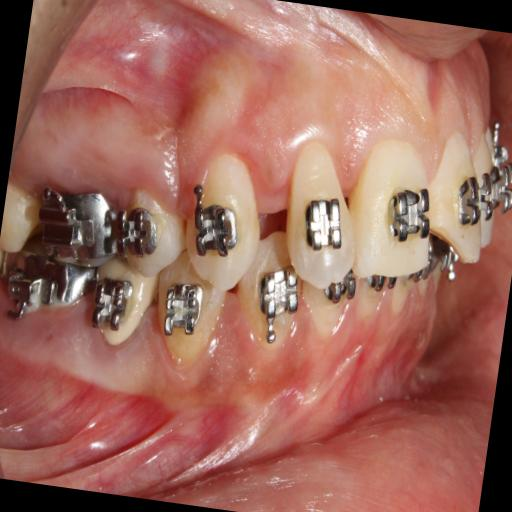correct_brace: (110, 180, 186, 281), (378, 171, 436, 248), (188, 192, 242, 260), (300, 185, 348, 257)
incorrect_brace: (276, 134, 369, 296), (114, 202, 162, 260)
